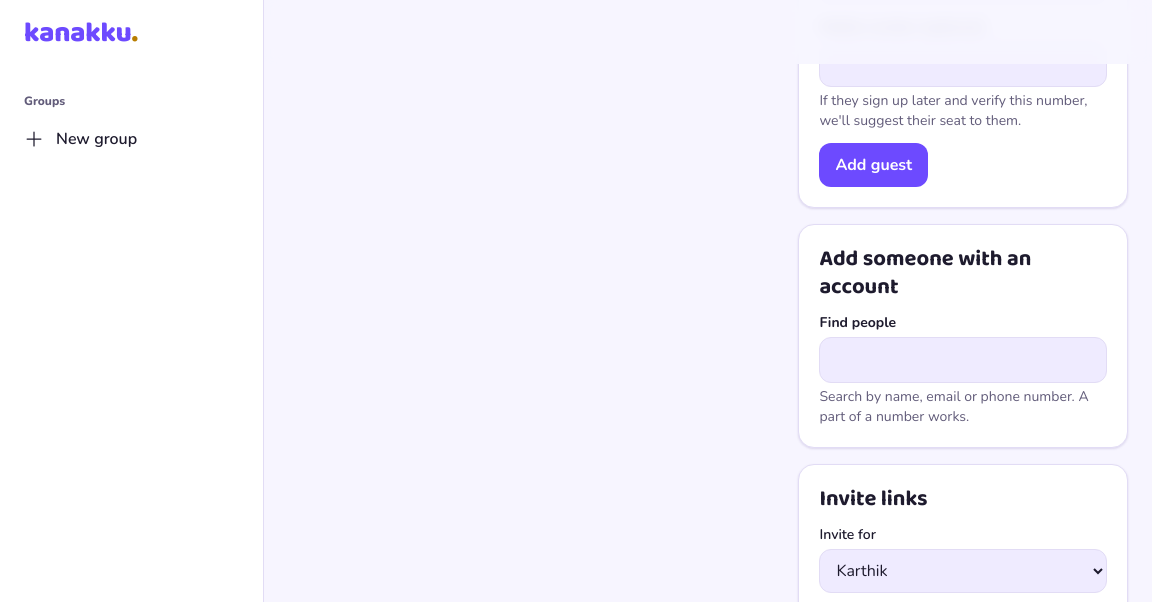
MemberPicker › waits for 3 characters, then searches by POST body and direct-adds with a key
(page scrolled)
In the search field labelled "Find people": (963, 360) [820,338,1106,382], type "me"
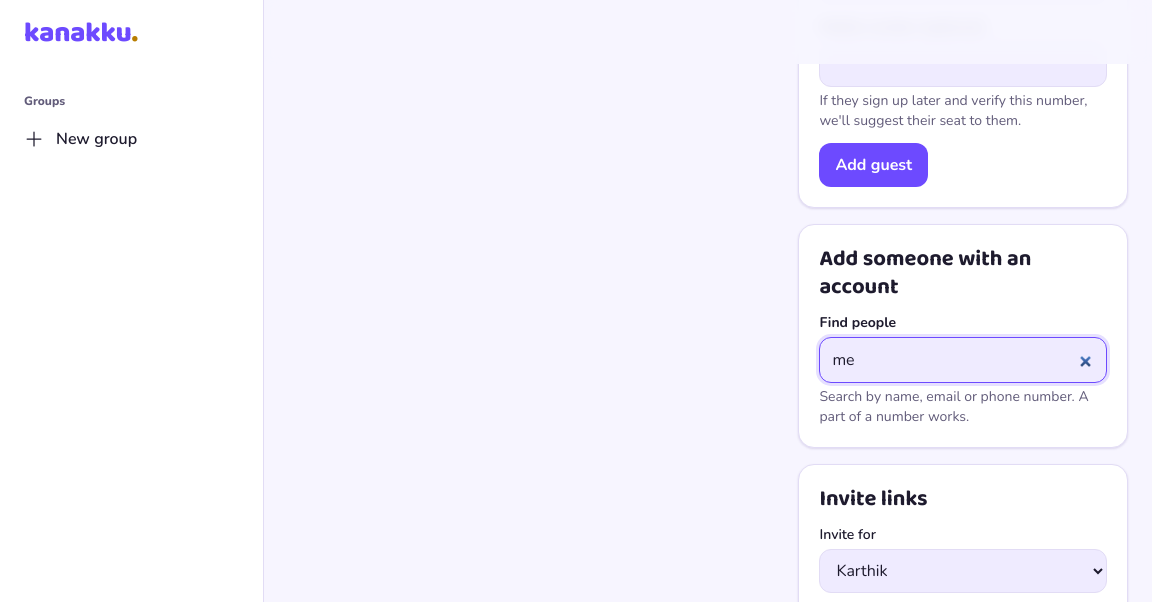
In the search field labelled "Find people": (963, 360) [820,338,1106,382], type "e"
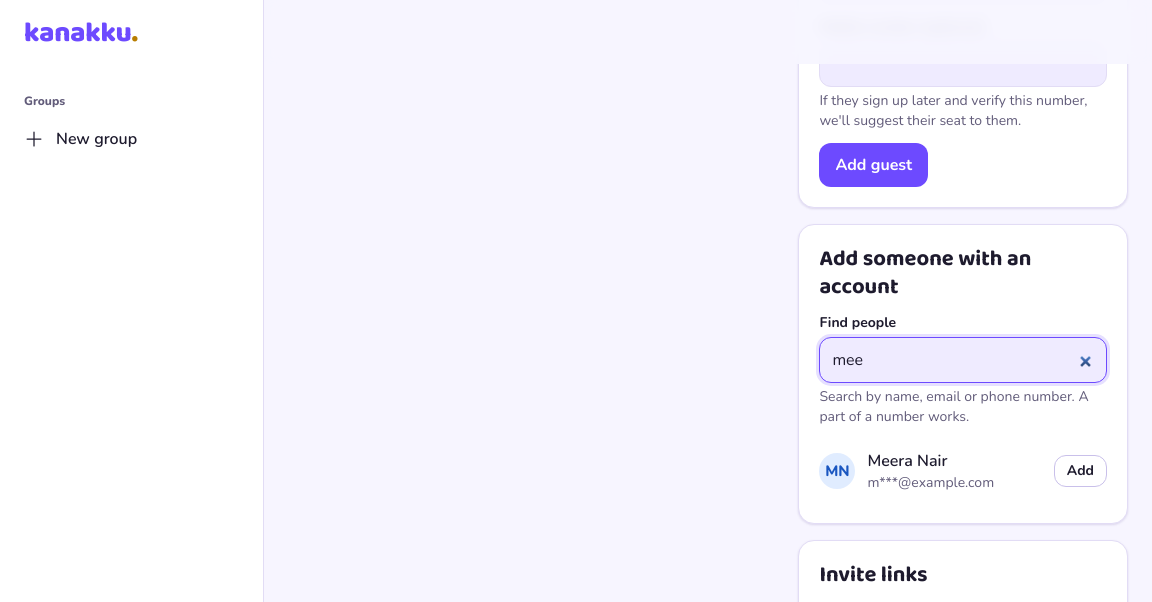
Now the text "Meera Nair" is shown, box [867,450,947,472]
Now the text "m***@example.com" is shown, box [867,473,994,493]
Click the button with aria-label "Add Meera Nair": (1080, 471) [1054,455,1107,487]
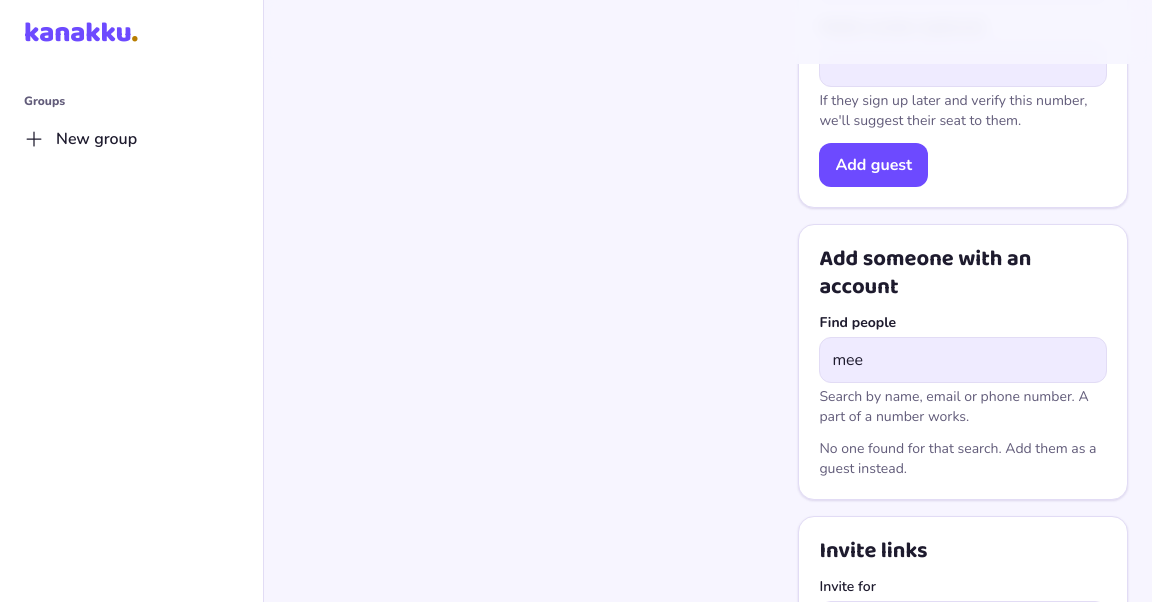
Now the text "Meera Nair" is gone
